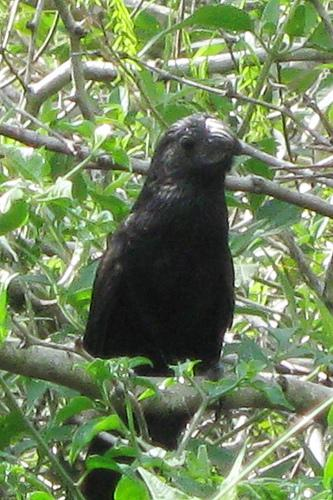004.Groove_billed_Ani: (77, 111, 240, 500)
